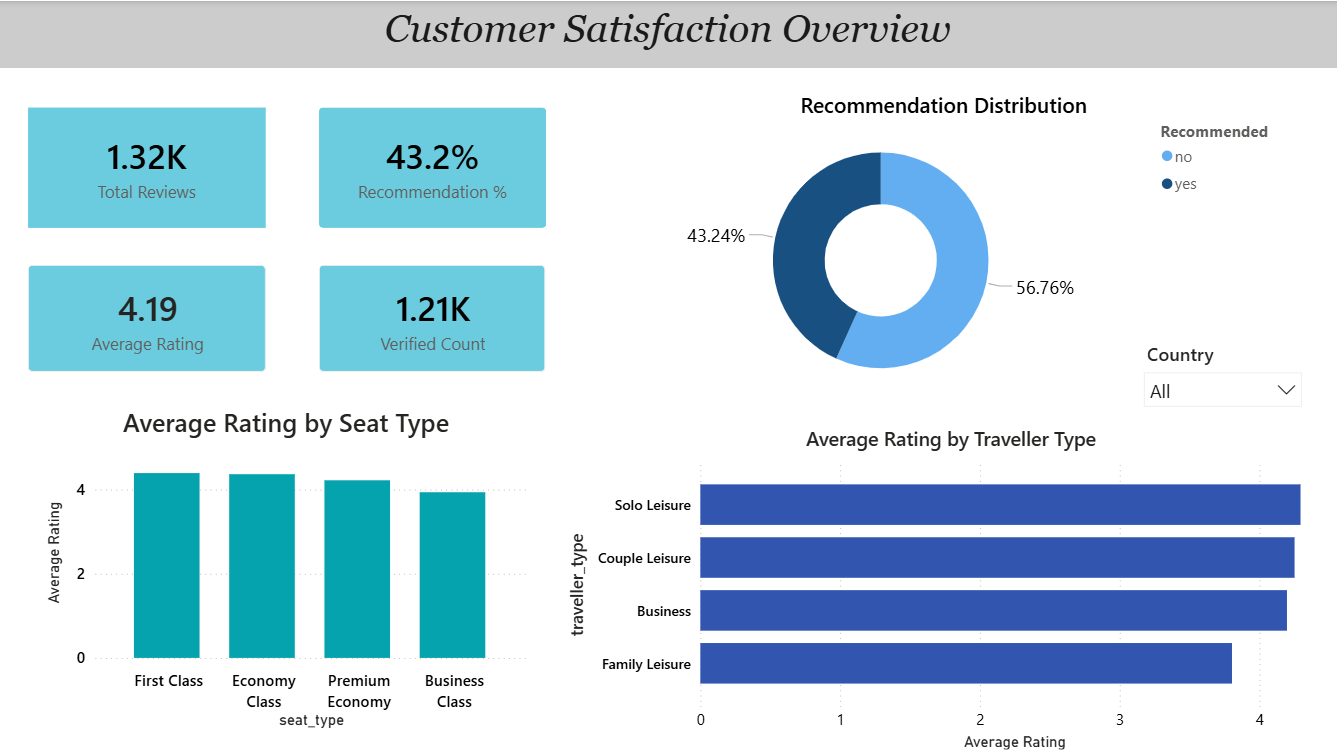

This screenshot's page, from the dashboard's own definition file:
{"tool":"powerbi","page":{"name":"Customer Satisfaction Overview","canvas":[1280,720],"ordinal":0},"visuals":[{"type":"cardVisual","fields":{"Data":["ba_reviews_cleaned.Total Reviews"]},"box":[11.4,84.6,261.9,149.6],"z":0},{"type":"cardVisual","fields":{"Data":["ba_reviews_cleaned.Average Rating"]},"box":[11.4,234.2,261.9,136.6],"z":1000},{"type":"cardVisual","fields":{"Data":["ba_reviews_cleaned.Recommendation %"]},"box":[289.1,85,251.3,149.3],"z":2000},{"type":"clusteredColumnChart","title":"Average Rating by Seat Type","fields":{"Category":["ba_reviews_cleaned.seat_type"],"Y":["ba_reviews_cleaned.Average Rating"]},"box":[40,386,470,314],"z":3000},{"type":"clusteredBarChart","title":"Average Rating by Traveller Type","fields":{"Category":["ba_reviews_cleaned.traveller_type"],"Y":["ba_reviews_cleaned.Average Rating"]},"box":[540,406,740,314],"z":4000},{"type":"donutChart","title":"Recommendation Distribution","fields":{"Category":["ba_reviews_cleaned.recommended"],"Y":["ba_reviews_cleaned.Total Reviews"]},"box":[570,86,666,300],"z":5000},{"type":"slicer","fields":{"Values":["ba_reviews_cleaned.place"]},"box":[1084.3,319.4,170.5,81.6],"z":6000},{"type":"cardVisual","fields":{"Data":["ba_reviews_cleaned.Verified Count"]},"box":[289.5,234.2,250.5,136.6],"z":7000},{"type":"textbox","box":[0,0,1279.4,64.3],"z":8000}]}

Visuals, with their boxes in screenshot pixels (x1, y1, x2, y2), scaled from the page's 1280x720 canvas onto the 1337x753 screenshot:
cardVisual - ba_reviews_cleaned.Total Reviews: crop(12, 88, 285, 245)
cardVisual - ba_reviews_cleaned.Average Rating: crop(12, 245, 285, 388)
cardVisual - ba_reviews_cleaned.Recommendation %: crop(302, 89, 564, 245)
"Average Rating by Seat Type" clusteredColumnChart: crop(42, 404, 533, 732)
"Average Rating by Traveller Type" clusteredBarChart: crop(564, 425, 1336, 752)
"Recommendation Distribution" donutChart: crop(595, 90, 1291, 404)
slicer - ba_reviews_cleaned.place: crop(1133, 334, 1311, 419)
cardVisual - ba_reviews_cleaned.Verified Count: crop(302, 245, 564, 388)
textbox: crop(0, 0, 1336, 67)
